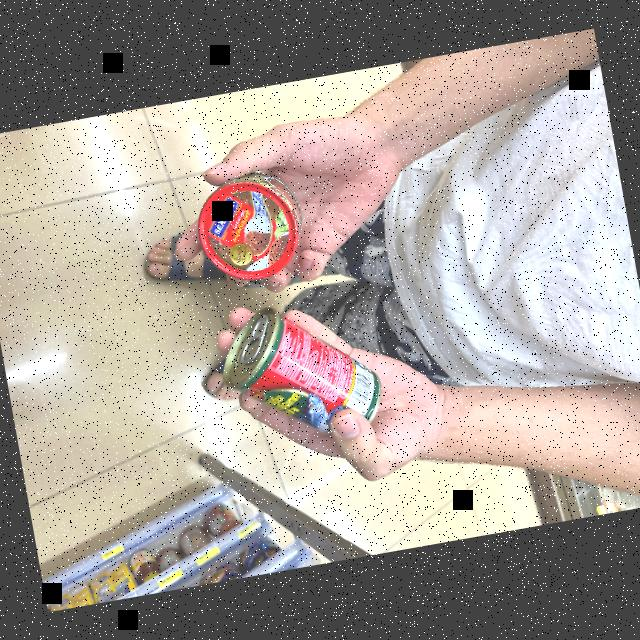can: (216, 292, 394, 458), (180, 165, 321, 296)
